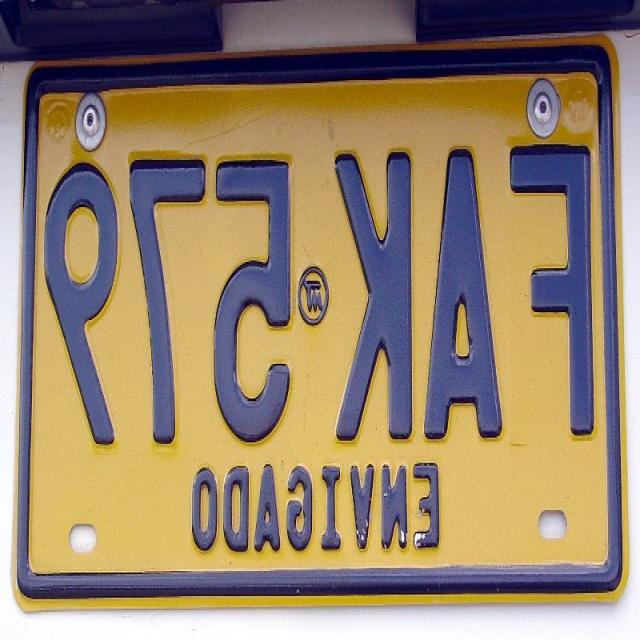placas: (46, 127, 602, 458)
